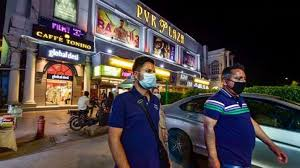mask: (135, 59, 156, 88), (226, 66, 245, 95)
